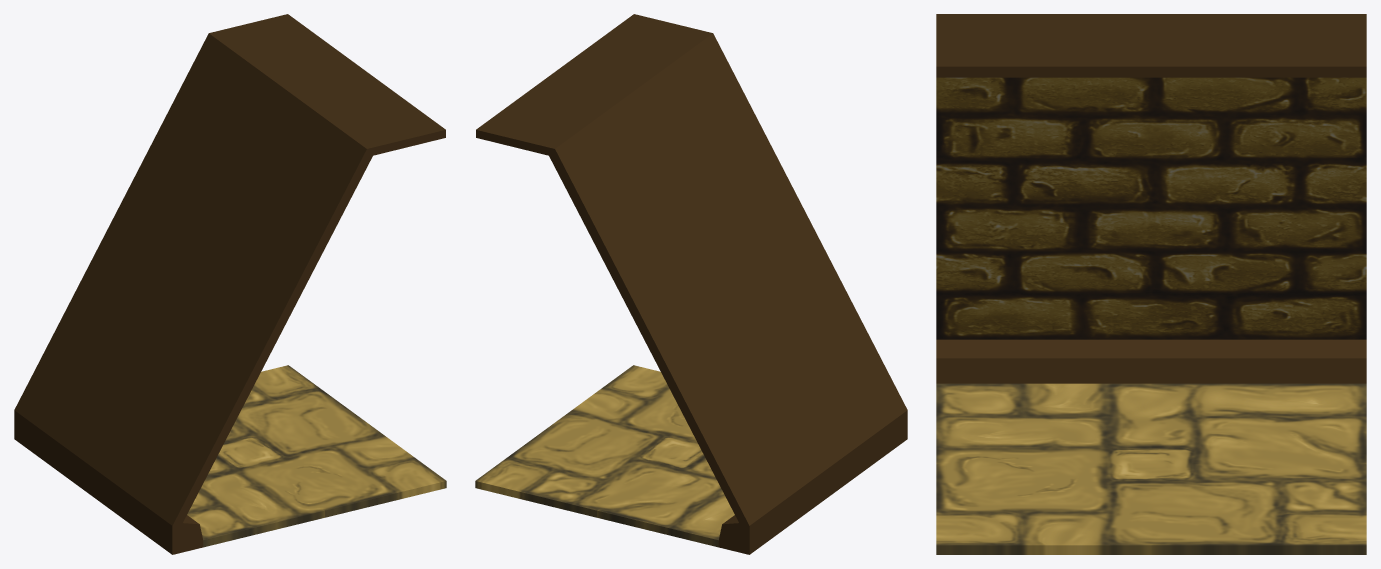
The model's file is Wall1.FBX.
The picture shows the model from 3 angles, left to right: view 1: azimuth 30°, elevation 25°; view 2: azimuth 150°, elevation 25°; view 3: azimuth 270°, elevation 25°; orthographic projection. The views are drawn at different scales.
Parts seen in each view (by area): view 1: Wall 019; view 2: Wall 019; view 3: Wall 019.
Part boxes in pixels (x1=…): Wall 019: x1=14, y1=14, x2=446, y2=554; Wall 019: x1=475, y1=14, x2=907, y2=554; Wall 019: x1=936, y1=14, x2=1366, y2=554.
Size of the model in its own units: 78.79 by 98.43 by 78.72.
